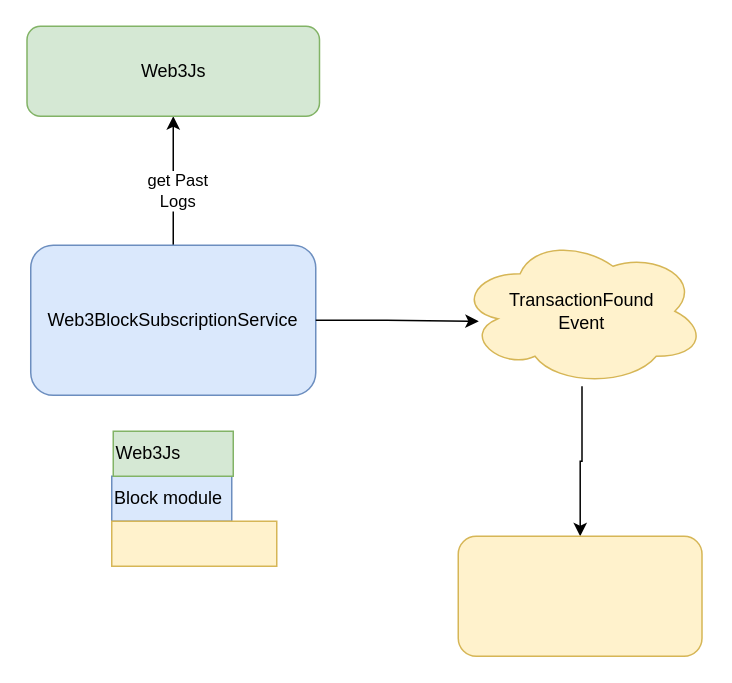
The diagram is 732 pixels wide and 683 high, and some of its shapes have lost their labels. Here are the shapes that lost their labels. From the top down, the centre of each, then its label:
At point 193,543: "Transaction module".
At point 579,595: "CreateChiliz Transaction UseCase".
